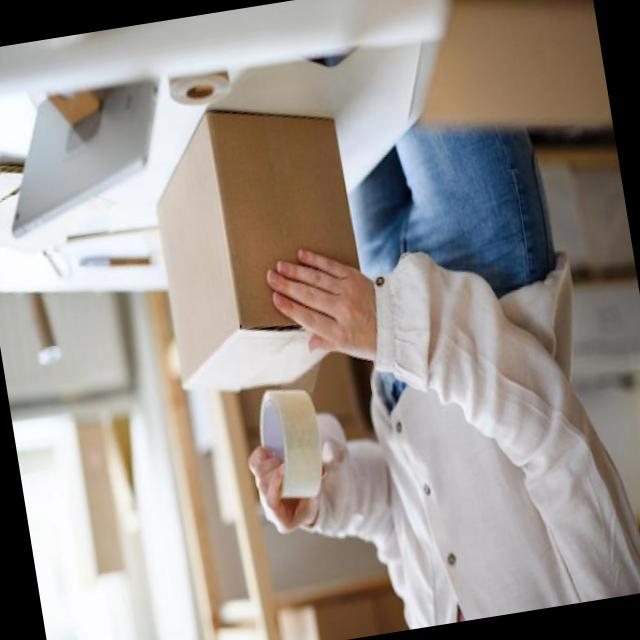box: (139, 90, 376, 408)
